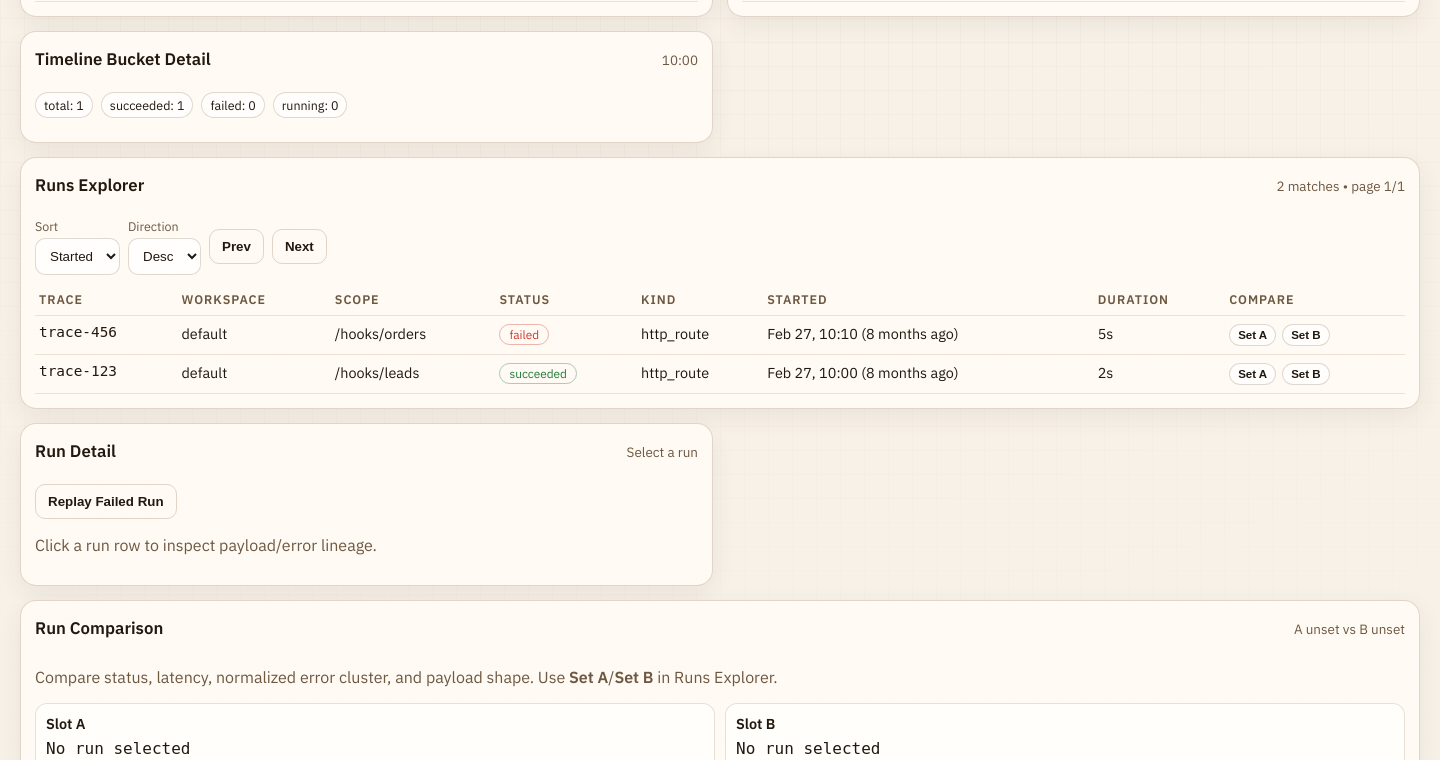
it: App dashboard › compares two runs side by side
(page scrolled)
Expected: the heading "Run Comparison" is shown, [35, 617, 163, 639]
Expected: the text "/hooks/orders" is shown, [331, 315, 496, 354]
Click the button with aria-label "set comparison a trace-123".
click(1253, 374)  # box [1229, 363, 1276, 385]
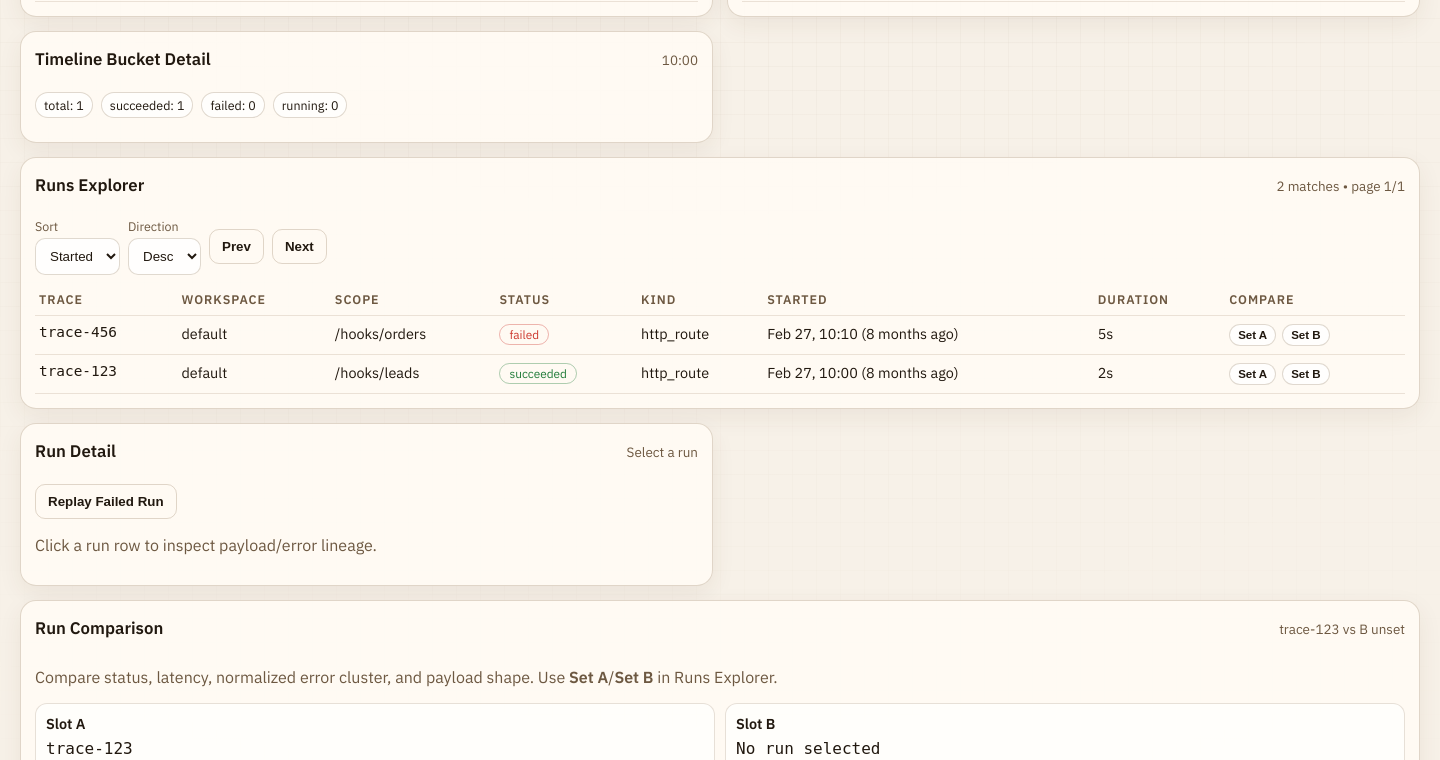
Click the button with aria-label "set comparison b trace-456".
click(1306, 335)  # box [1282, 324, 1330, 346]
(page scrolled)
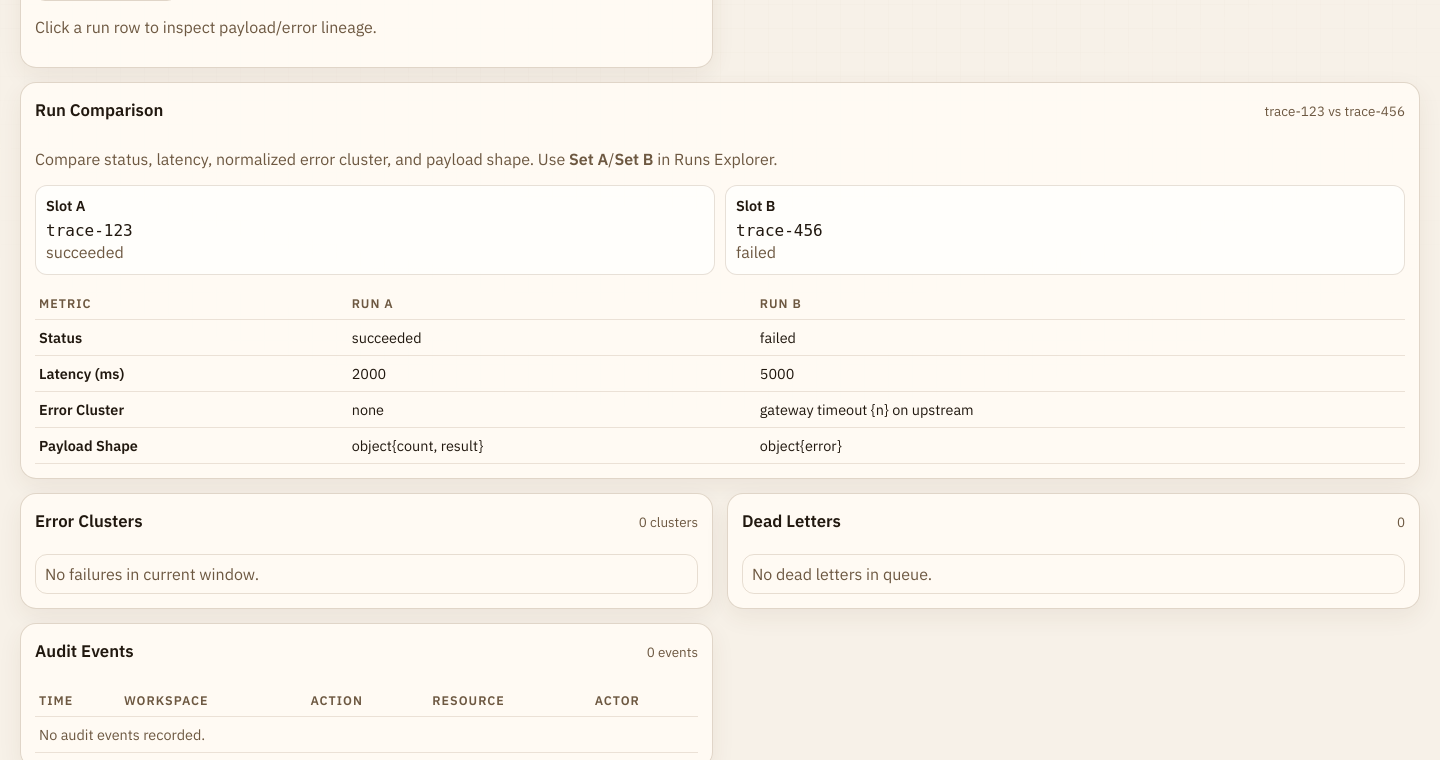
Result: the text "object{count, result}" is shown at [348, 427, 756, 463]
Result: the text "object{error}" is shown at [756, 427, 1405, 463]
Result: the text "2000" is shown at [348, 355, 756, 391]
